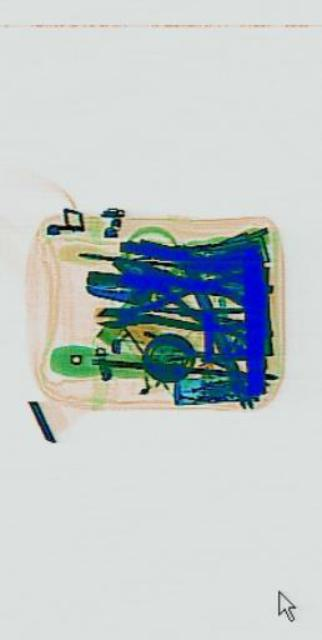Pliers: (109, 231, 245, 341), (92, 270, 245, 346)
